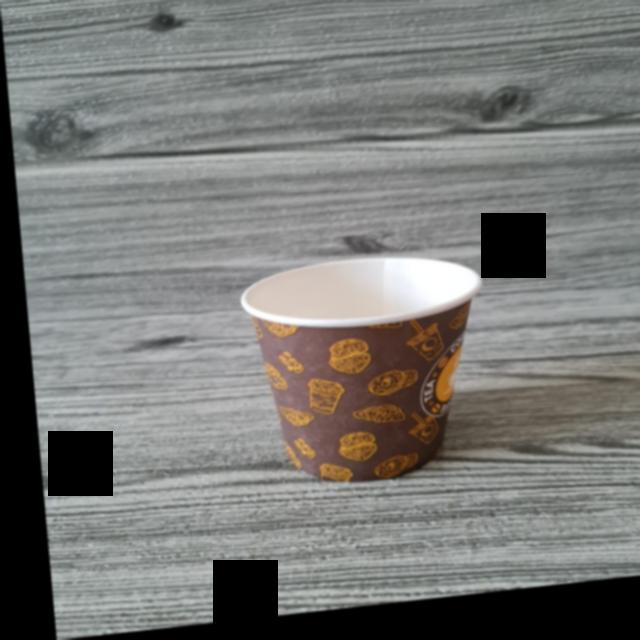cups: (228, 257, 499, 500)
